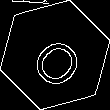O_NE: (22, 22, 88, 88)
